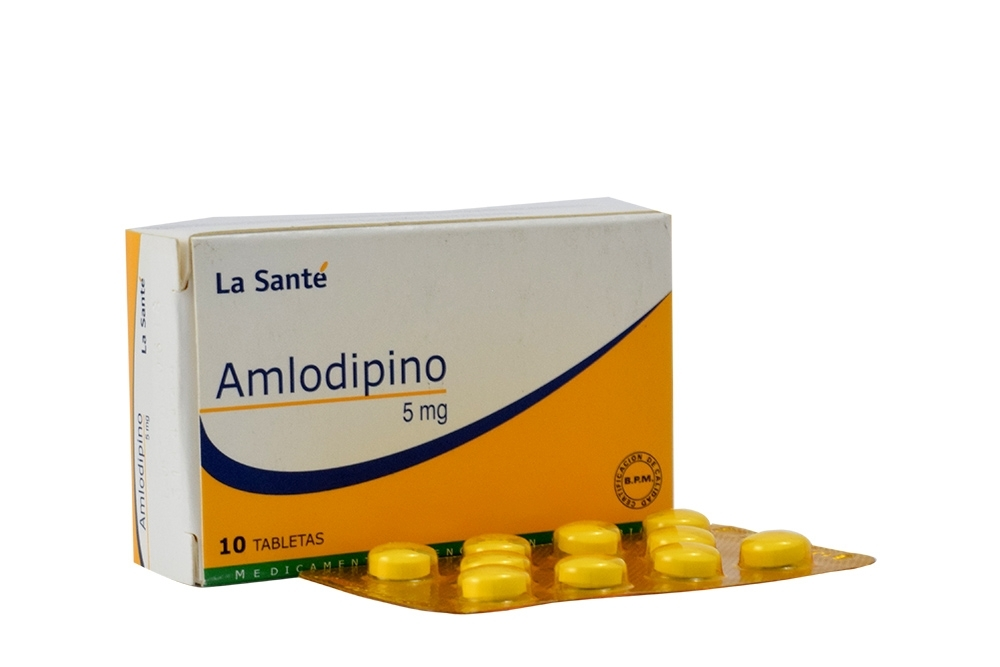LaSante: (192, 223, 674, 589)
